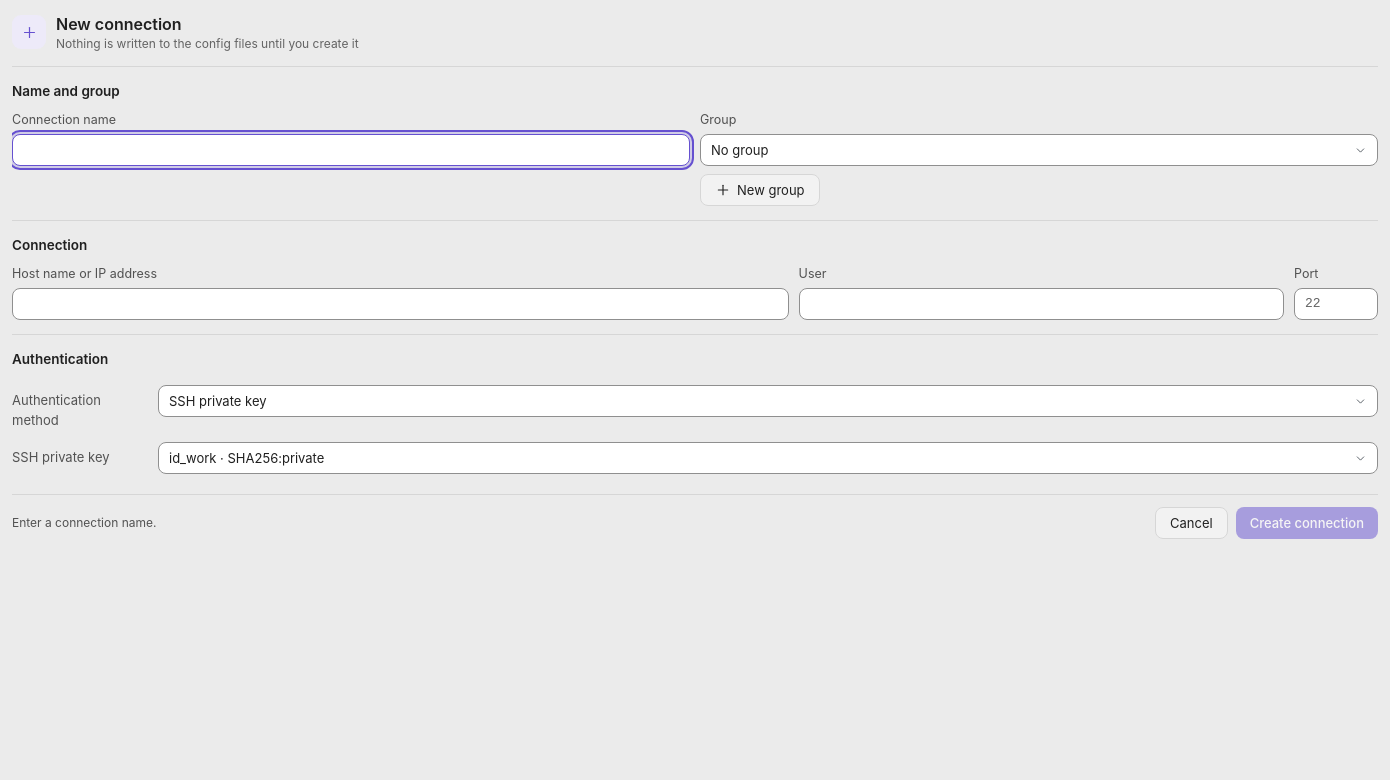
Scenario: CreateConnectionPane › keeps the master password after a refused unlock so it can be corrected in place
Select "Encrypted password for this connection" in the dropdown labelled "Authentication method" at (768, 401), box [158,385,1378,417]
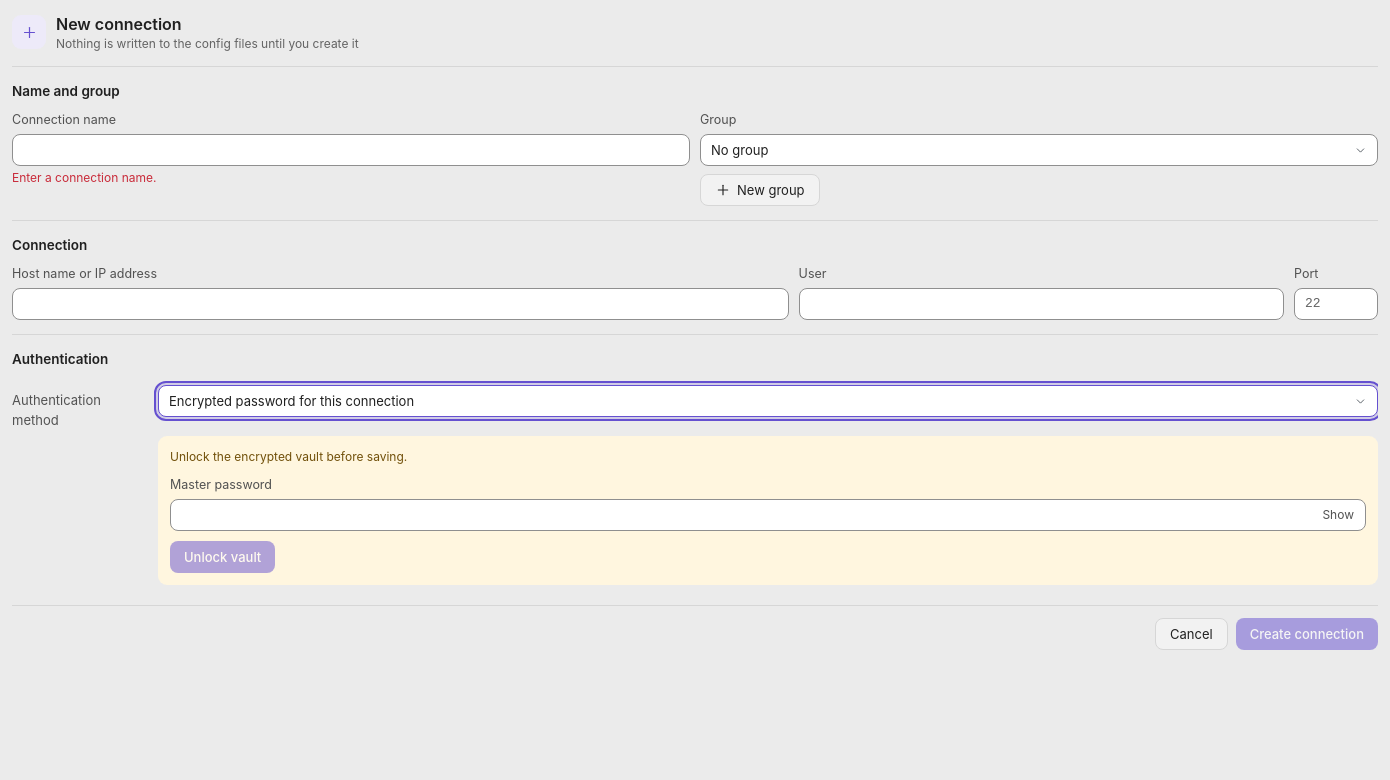
Type "a mistyped master" into the password field named "Master password" at (768, 515), box [170,499,1366,531]
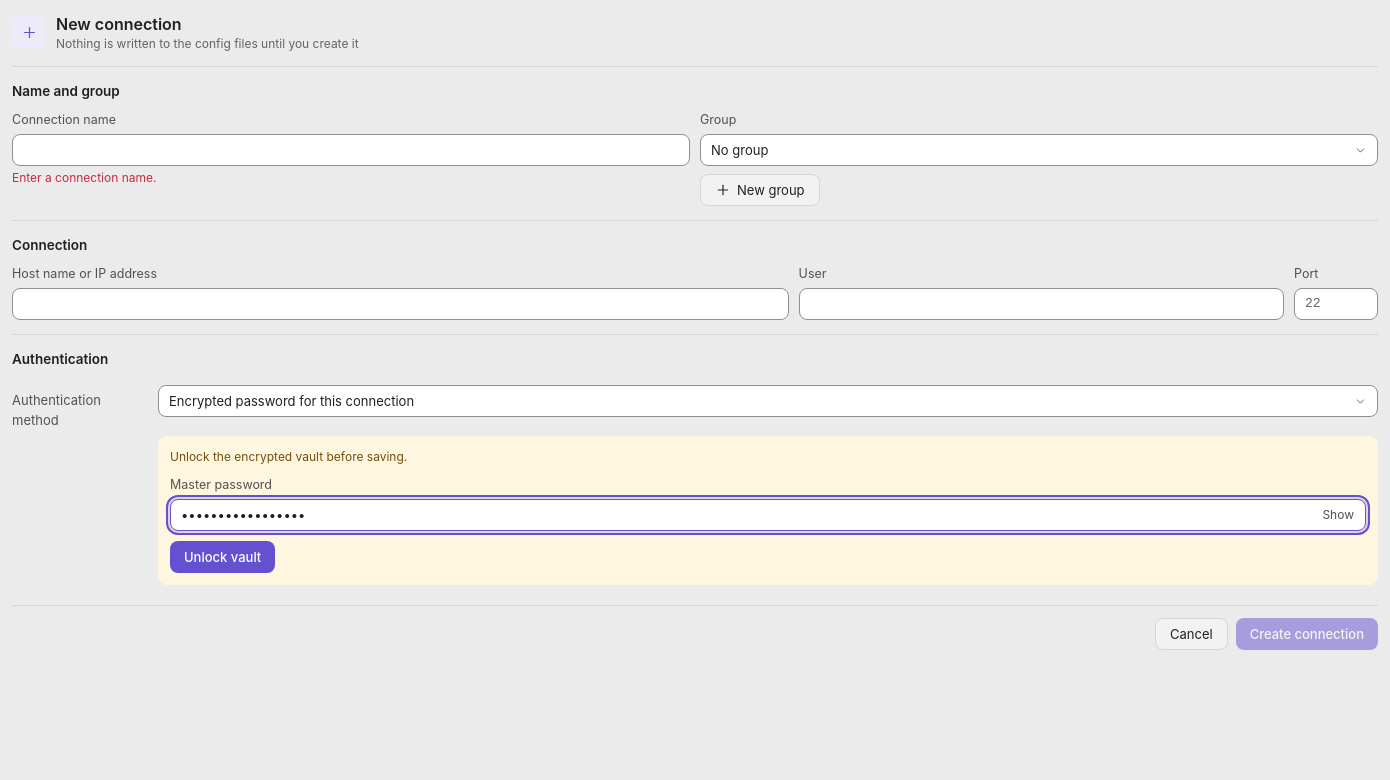
Click the button "Unlock vault" at (223, 557), box [170,541,275,573]
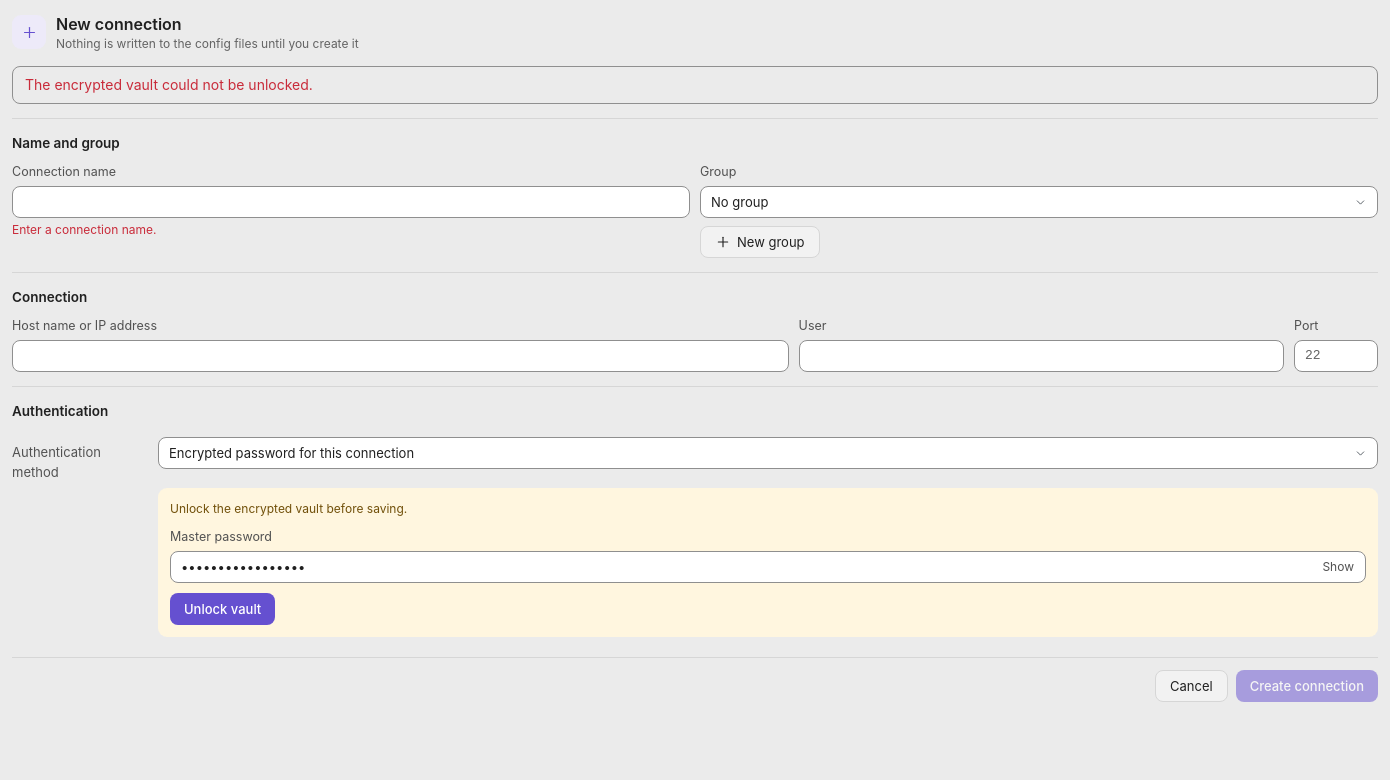
Result: the message "The encrypted vault could not be unlocked." is shown at [12,66,1378,104]
